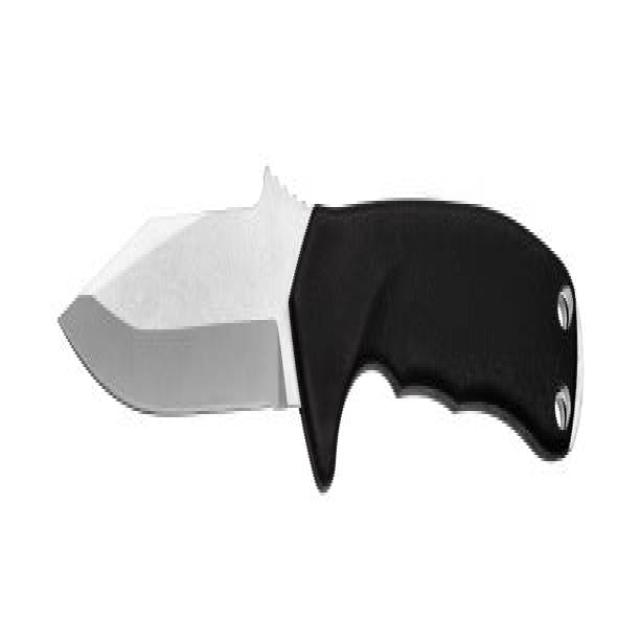knife: (56, 149, 598, 523)
